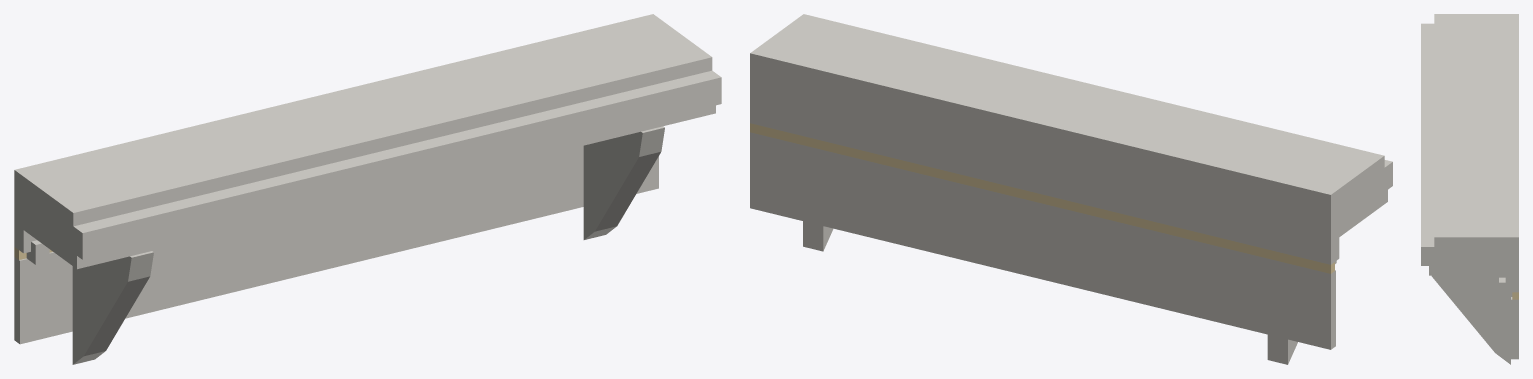
Rendered from cornice_c.glb.
The picture shows the model from 3 angles, left to right: view 1: azimuth 30°, elevation 25°; view 2: azimuth 150°, elevation 25°; view 3: azimuth 270°, elevation 25°; orthographic projection. The views are drawn at different scales.
Parts seen in each view (by area): view 1: cornice_c_trim; view 2: cornice_c_trim, cornice_c_acc_c; view 3: cornice_c_trim.
Boxes of the visible parts, <box> form: cornice_c_trim: <box>14,14,721,364</box>; cornice_c_trim: <box>750,14,1392,364</box>; cornice_c_acc_c: <box>750,123,1334,273</box>; cornice_c_trim: <box>1421,14,1518,364</box>.
Bounding box in the file's own units: 2 × 0.61 × 0.37.
